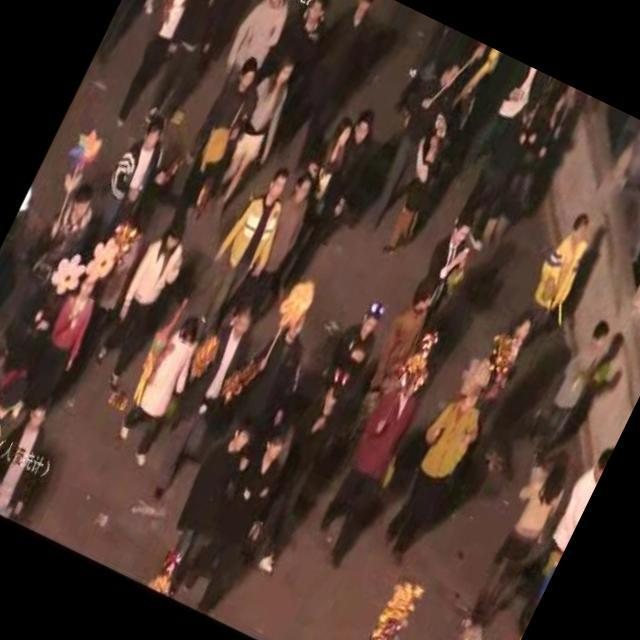person: (234, 306, 402, 584), (304, 348, 451, 580), (132, 292, 268, 510), (236, 374, 366, 584), (174, 422, 306, 620), (180, 422, 304, 622), (79, 203, 205, 394), (144, 408, 266, 602), (156, 48, 277, 242), (460, 442, 582, 632), (278, 97, 398, 290), (374, 378, 494, 570), (148, 414, 268, 602), (469, 77, 587, 265), (270, 0, 394, 174), (196, 53, 310, 236), (356, 58, 469, 242), (192, 158, 306, 337), (102, 306, 215, 474), (514, 304, 621, 468), (502, 207, 608, 370), (100, 0, 218, 136), (233, 172, 335, 322), (88, 107, 195, 246), (140, 0, 258, 125), (16, 270, 112, 412), (372, 132, 460, 264), (360, 280, 443, 403), (468, 64, 552, 182), (0, 390, 72, 522), (414, 200, 489, 306), (31, 175, 106, 272), (223, 0, 308, 78), (271, 0, 344, 86), (302, 110, 362, 196), (0, 368, 34, 507), (612, 142, 640, 298), (337, 613, 405, 640)
